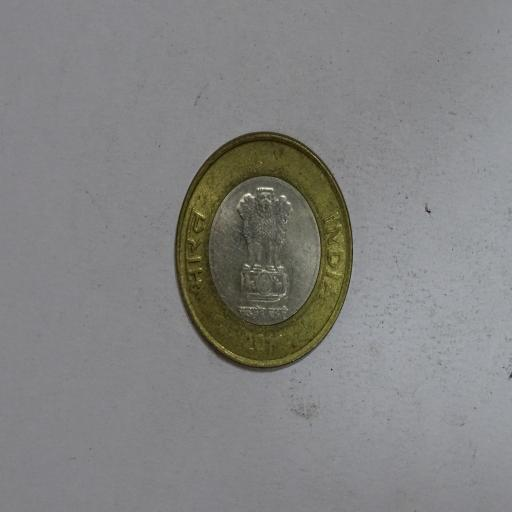rupee10: (172, 127, 354, 375)
